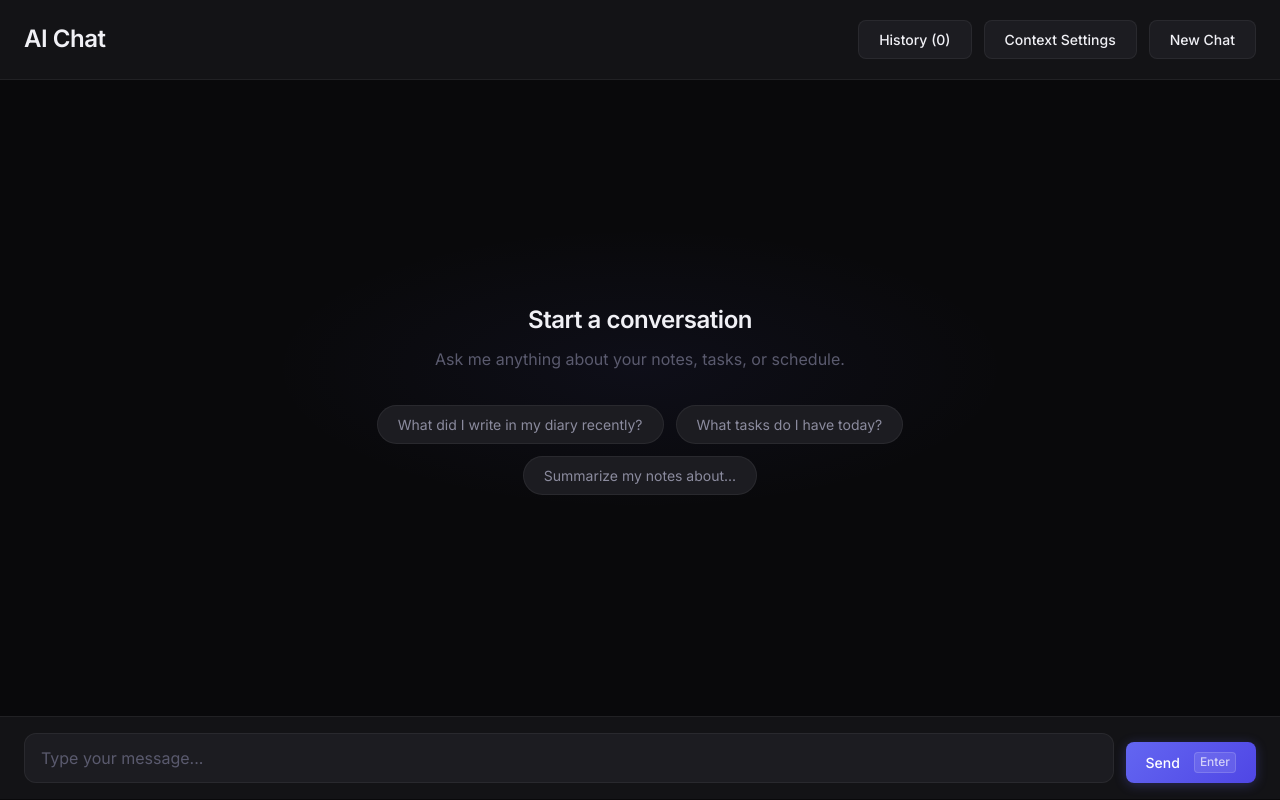
it: Chat Component › displays AI response after receiving
Type "Hello" into the text box with placeholder "Type your message...".
click(569, 758); type("Hello")  # box [24,733,1114,783]
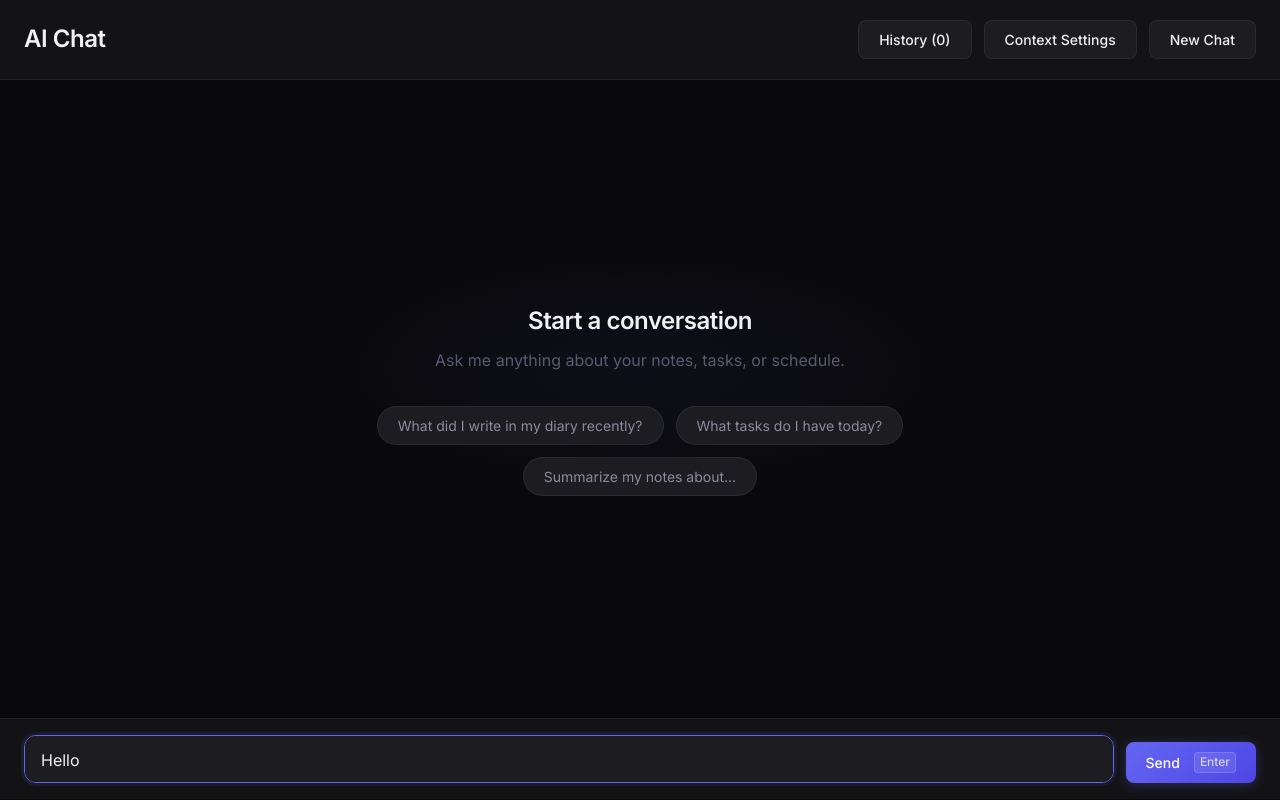
Click the button "Send Enter".
click(1191, 763)  # box [1126,742,1256,783]
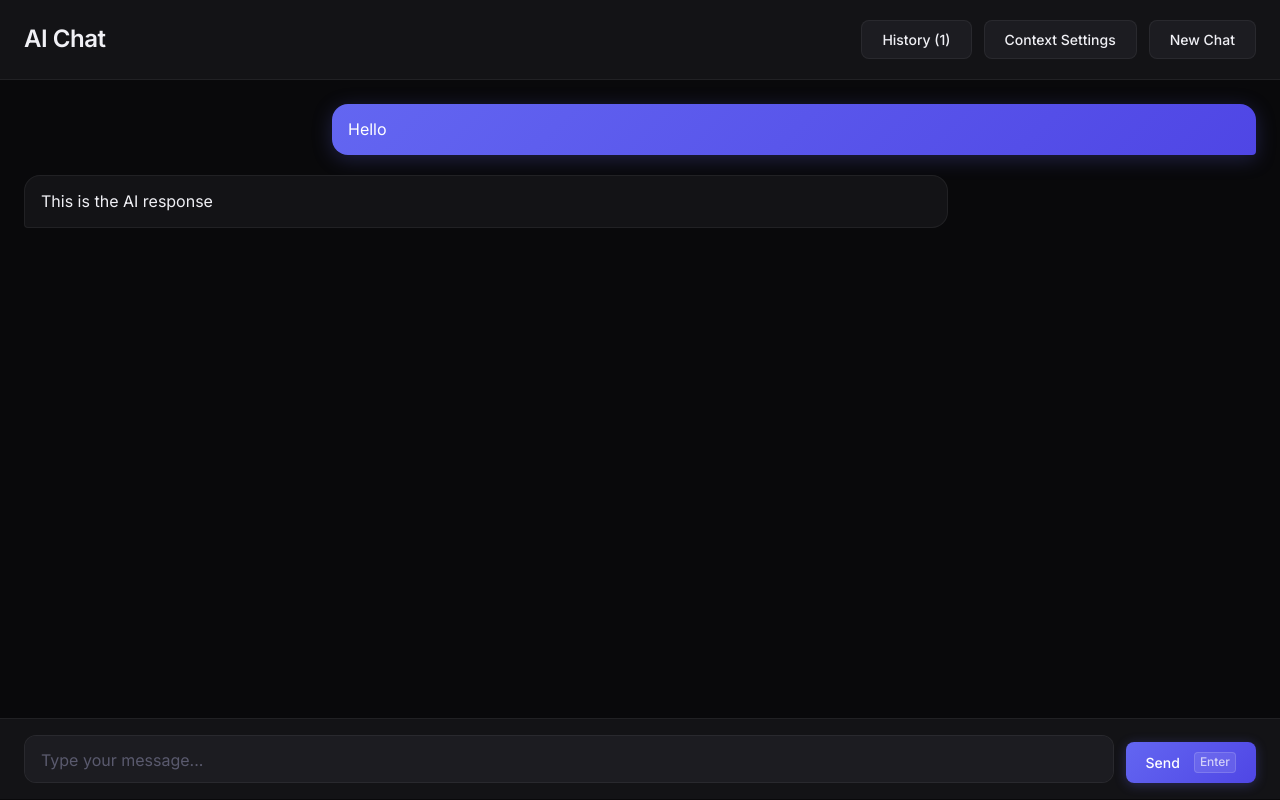
Expected: the text "This is the AI response" is shown, [41,191,213,211]
